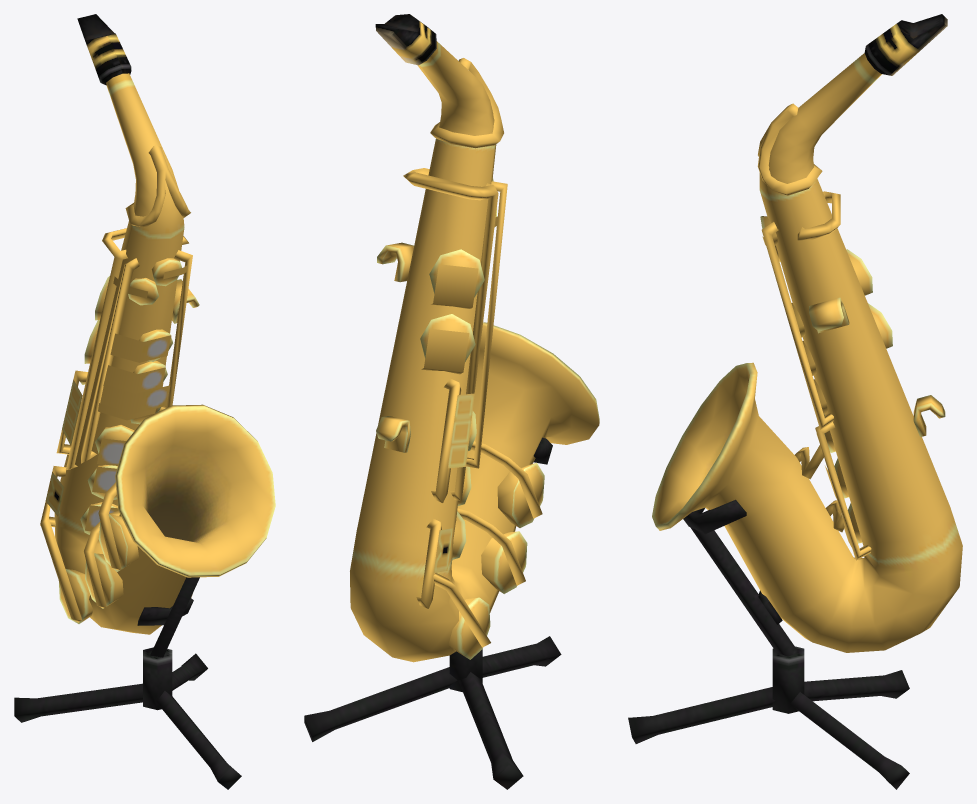
Rendered from FtrAltosax.glb.
3 views of the same model, side by side, from view 1: azimuth 30°, elevation 25°; view 2: azimuth 150°, elevation 25°; view 3: azimuth 270°, elevation 25° (orthographic). The views are drawn at different scales.
Visible parts, largest first — view 1: FtrAltosax__mBody; view 2: FtrAltosax__mBody; view 3: FtrAltosax__mBody.
Boxes of the visible parts, box(x1,y1,x2,y2) form: FtrAltosax__mBody: box(14, 14, 275, 789); FtrAltosax__mBody: box(304, 14, 599, 789); FtrAltosax__mBody: box(628, 14, 962, 789).
Bounding box in the file's own units: 3.51 × 11.57 × 4.84.
1 material, 1 textured.
